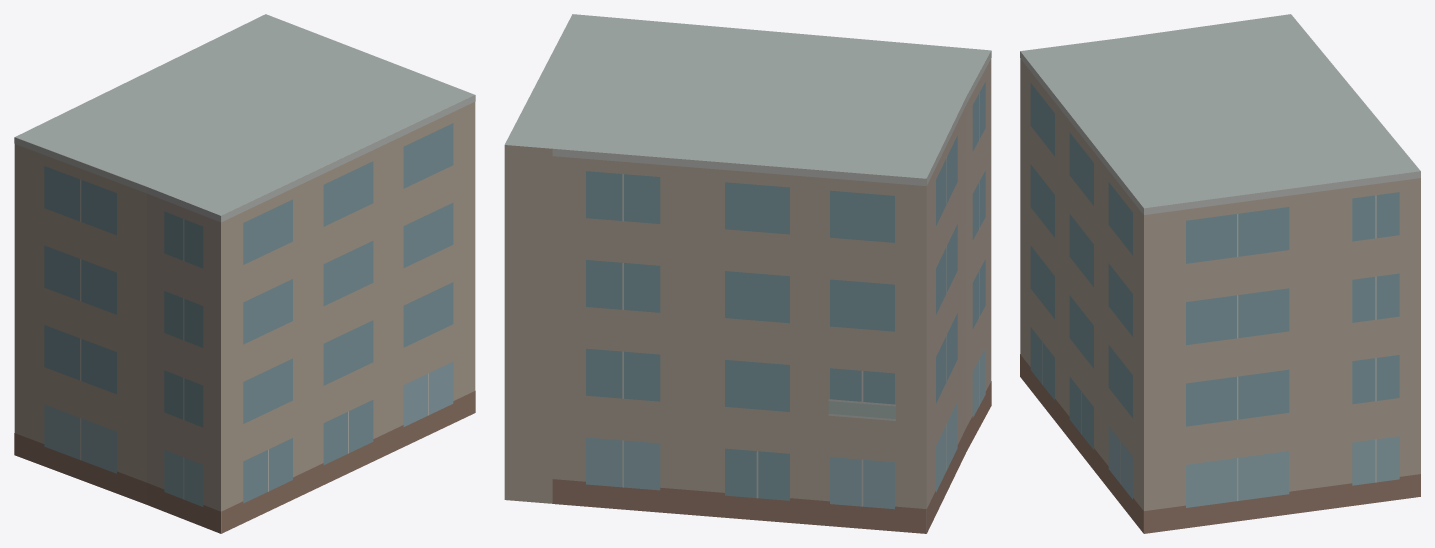
The model's file is survey-upis-32632296.glb.
3 renders of one model, left to right at view 1: azimuth 30°, elevation 25°; view 2: azimuth 150°, elevation 25°; view 3: azimuth 270°, elevation 25°, orthographic. The views are drawn at different scales.
Visible parts, largest first — view 1: survey-upis-32632296.tmp; view 2: survey-upis-32632296.tmp; view 3: survey-upis-32632296.tmp.
Boxes of the visible parts, bbox=[...] form: survey-upis-32632296.tmp: bbox=[14, 14, 475, 533]; survey-upis-32632296.tmp: bbox=[504, 14, 991, 533]; survey-upis-32632296.tmp: bbox=[1020, 14, 1420, 533].
Bounding box in the file's own units: 14.99 × 11.7 × 13.06.
